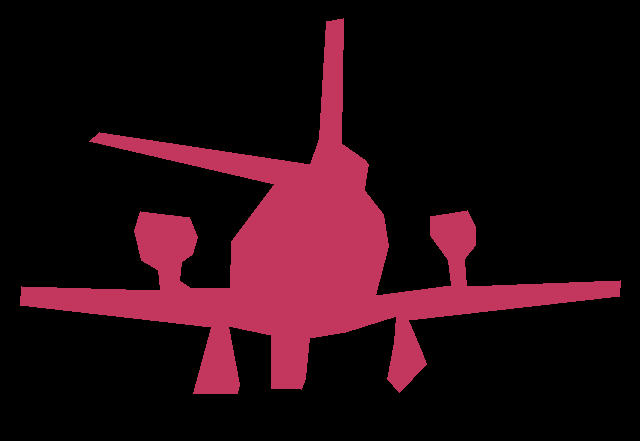Airplane: (20, 18, 620, 394)
